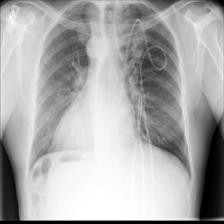normal: (25, 0, 192, 182)
